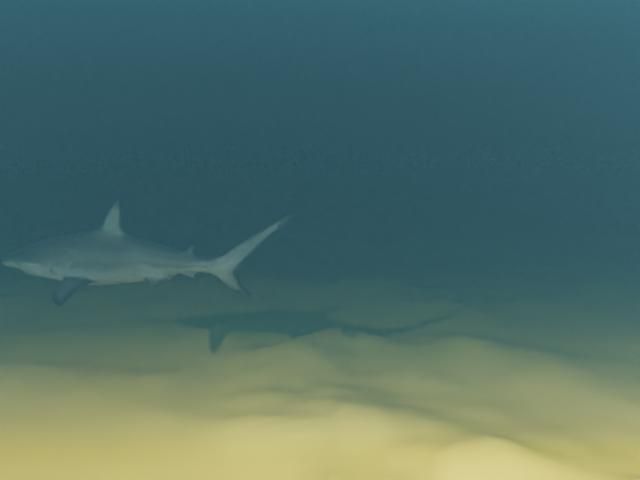Carribean Shark.001: (1, 200, 293, 306)
